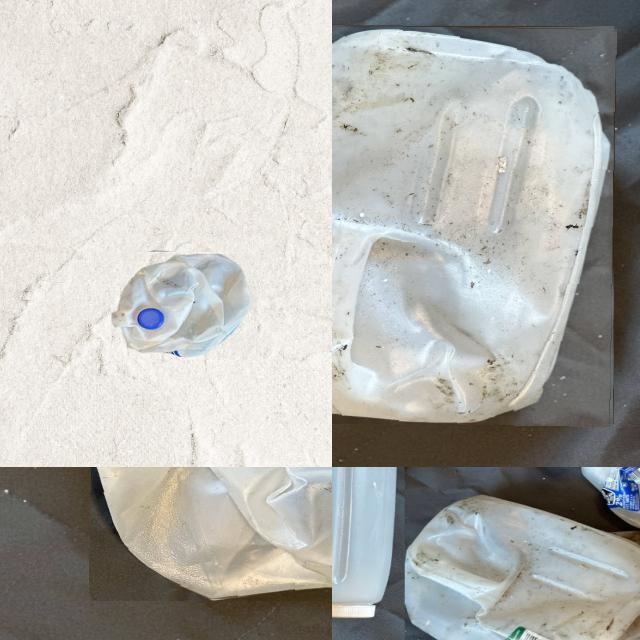milk-jug: (332, 24, 614, 426), (88, 467, 332, 603), (409, 502, 640, 640), (110, 252, 257, 360), (577, 529, 640, 640)
